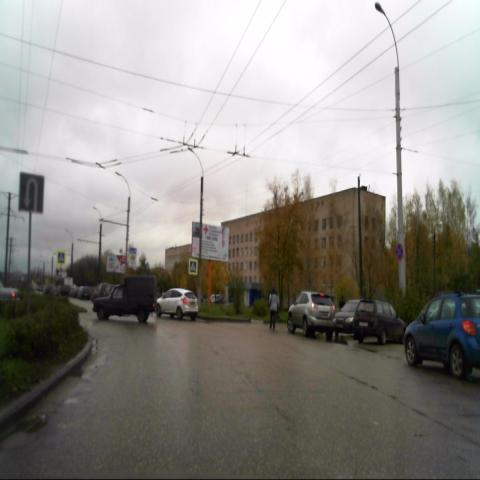6_3_1: (18, 172, 45, 218)
